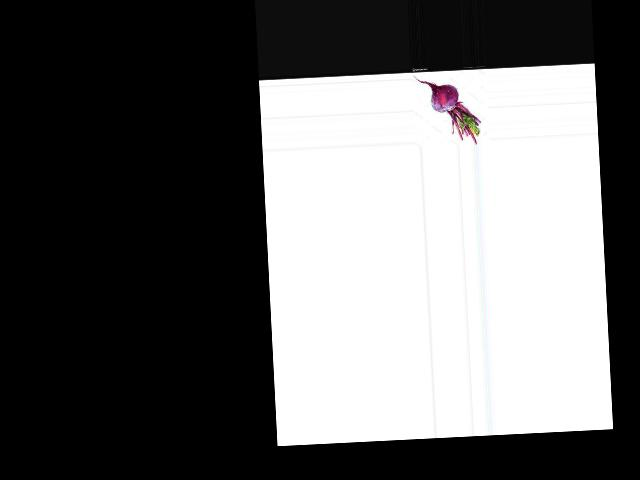beet: (414, 72, 482, 147)
